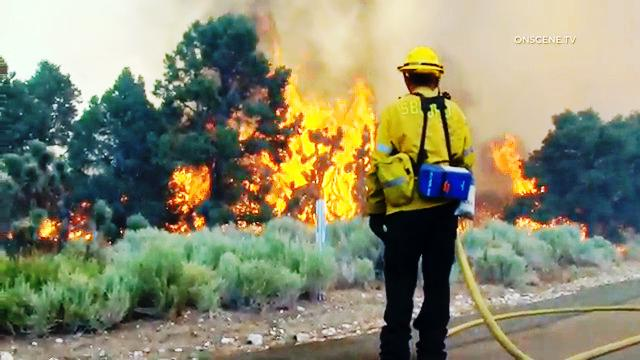fire: (265, 32, 365, 207), (489, 138, 541, 204), (169, 159, 219, 214)
smoke: (399, 16, 510, 47)
